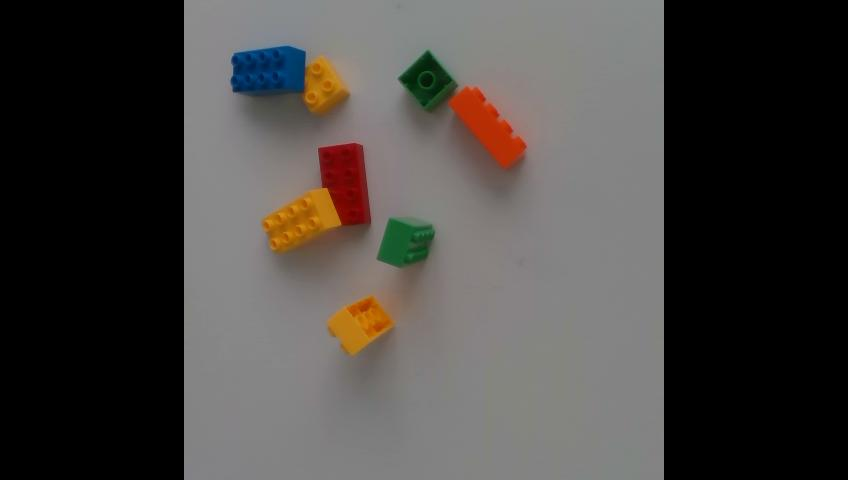2x2_green: (396, 49, 454, 108)
2x2_yellow: (303, 56, 348, 113)
4x2_blue: (229, 44, 304, 93)
4x2_green: (376, 217, 433, 265)
4x2_orange: (448, 85, 525, 168)
4x2_red: (319, 145, 369, 225)
4x2_yellow: (261, 188, 339, 253), (327, 294, 393, 353)
